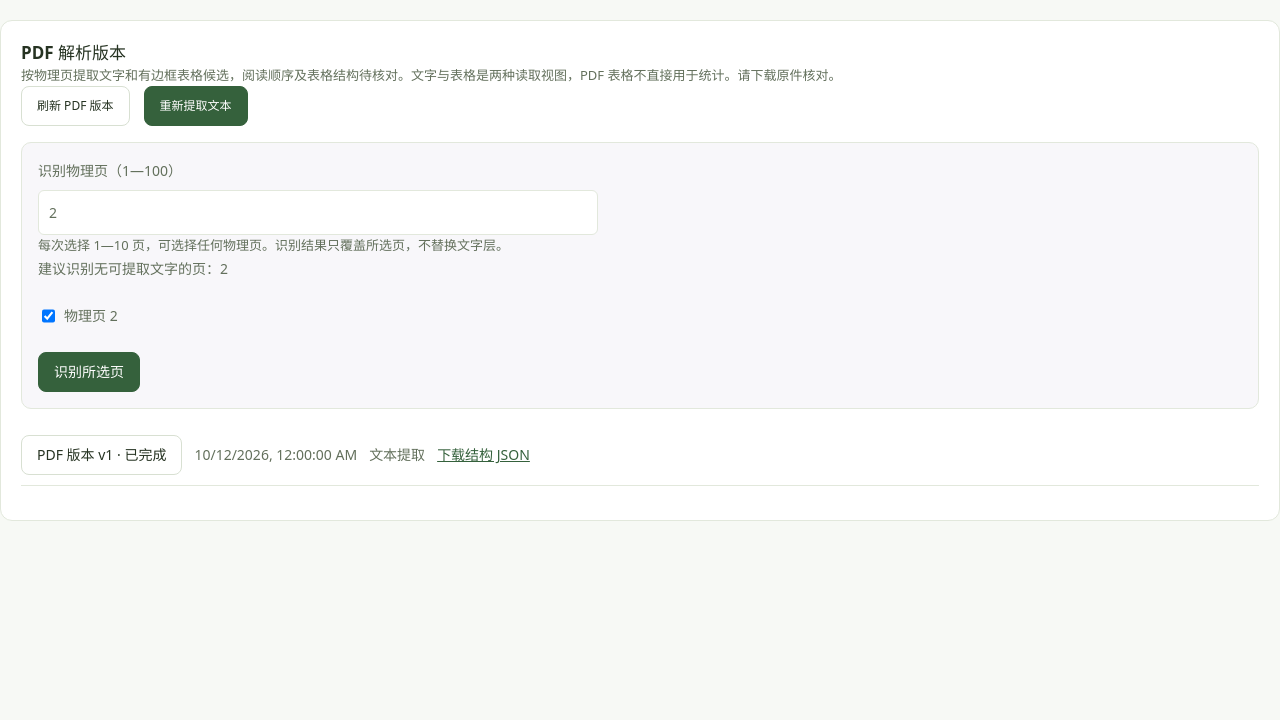
it: PDF versions use physical pages with candidate sources and no text notice
Click the button "PDF 版本 v1 · 已完成" at (102, 455), box x1=21 y1=435 x2=182 y2=475
(page scrolled)
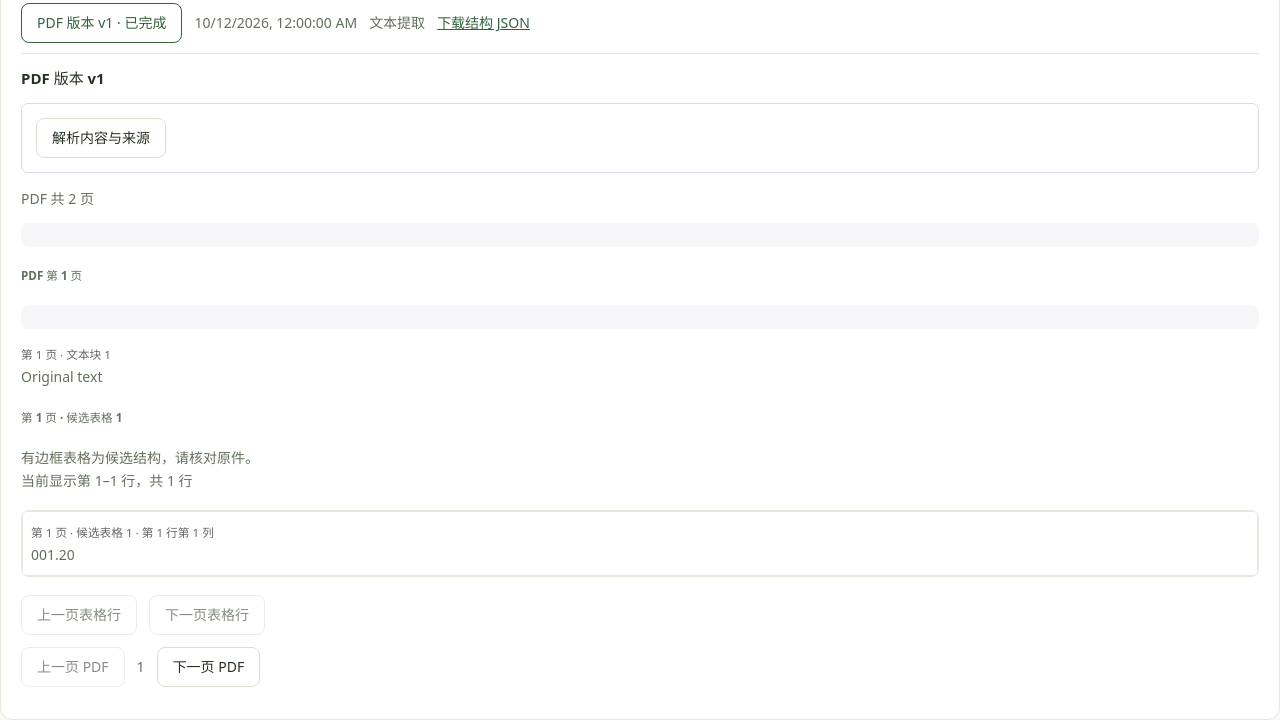
Expected: the text "Original text" is shown, x1=21 y1=367 x2=102 y2=386
Expected: the text "001.20" is shown, x1=31 y1=545 x2=75 y2=564
Expected: the text "第 1 页 · 候选表格 1 · 第 1 行第 1 列" is shown, x1=31 y1=525 x2=214 y2=540
Click the button "下一页 PDF" at (208, 666), box x1=157 y1=646 x2=260 y2=686
(page scrolled)
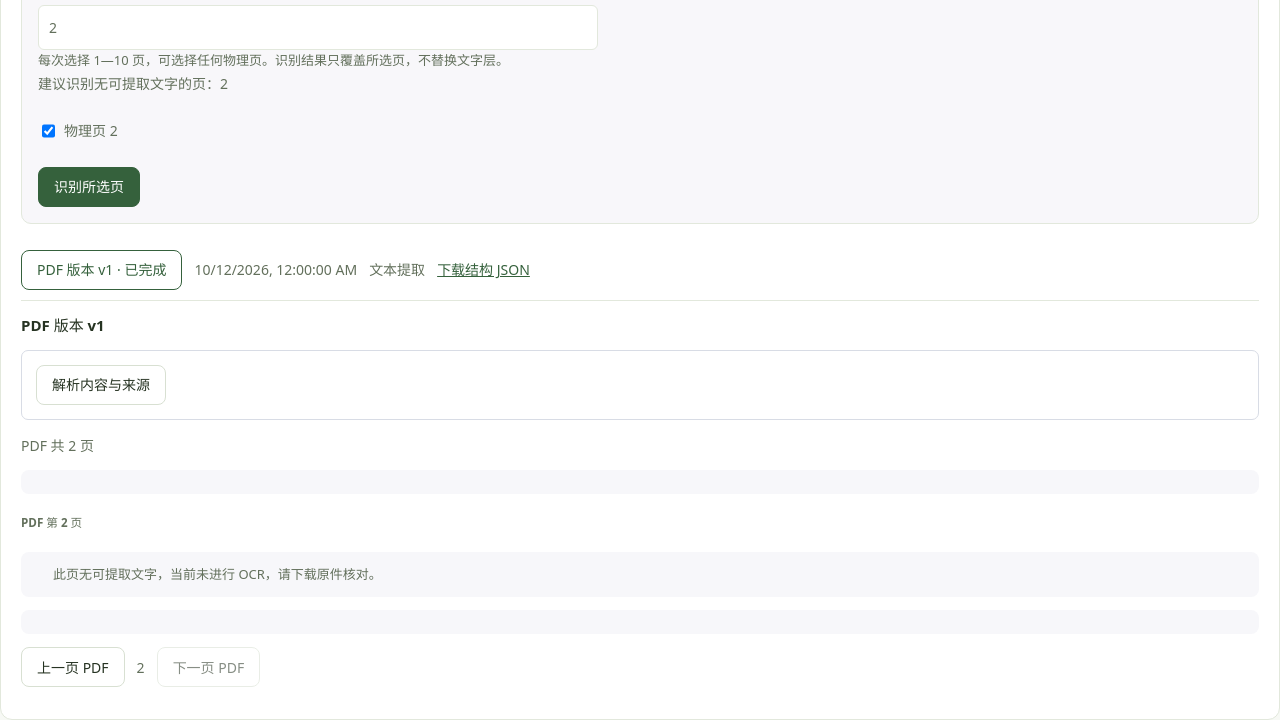
Expected: the text "此页无可提取文字，当前未进行 OCR，请下载原件核对。" is shown, x1=21 y1=552 x2=1259 y2=597
